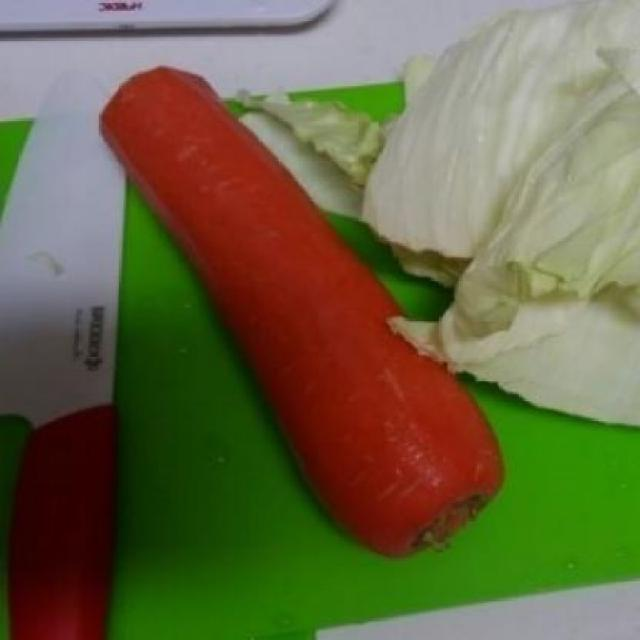carrot: (96, 66, 512, 564)
